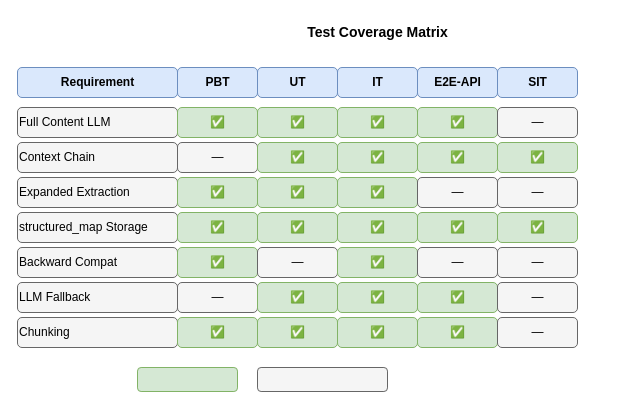
This 635x409 diagram has some shape labels left out. Here are the shapes that lost their labels. From the top down, the centre of each, then its label:
At point (187, 379): "✅ Covered".
At point (322, 379): "— Not Applicable".
